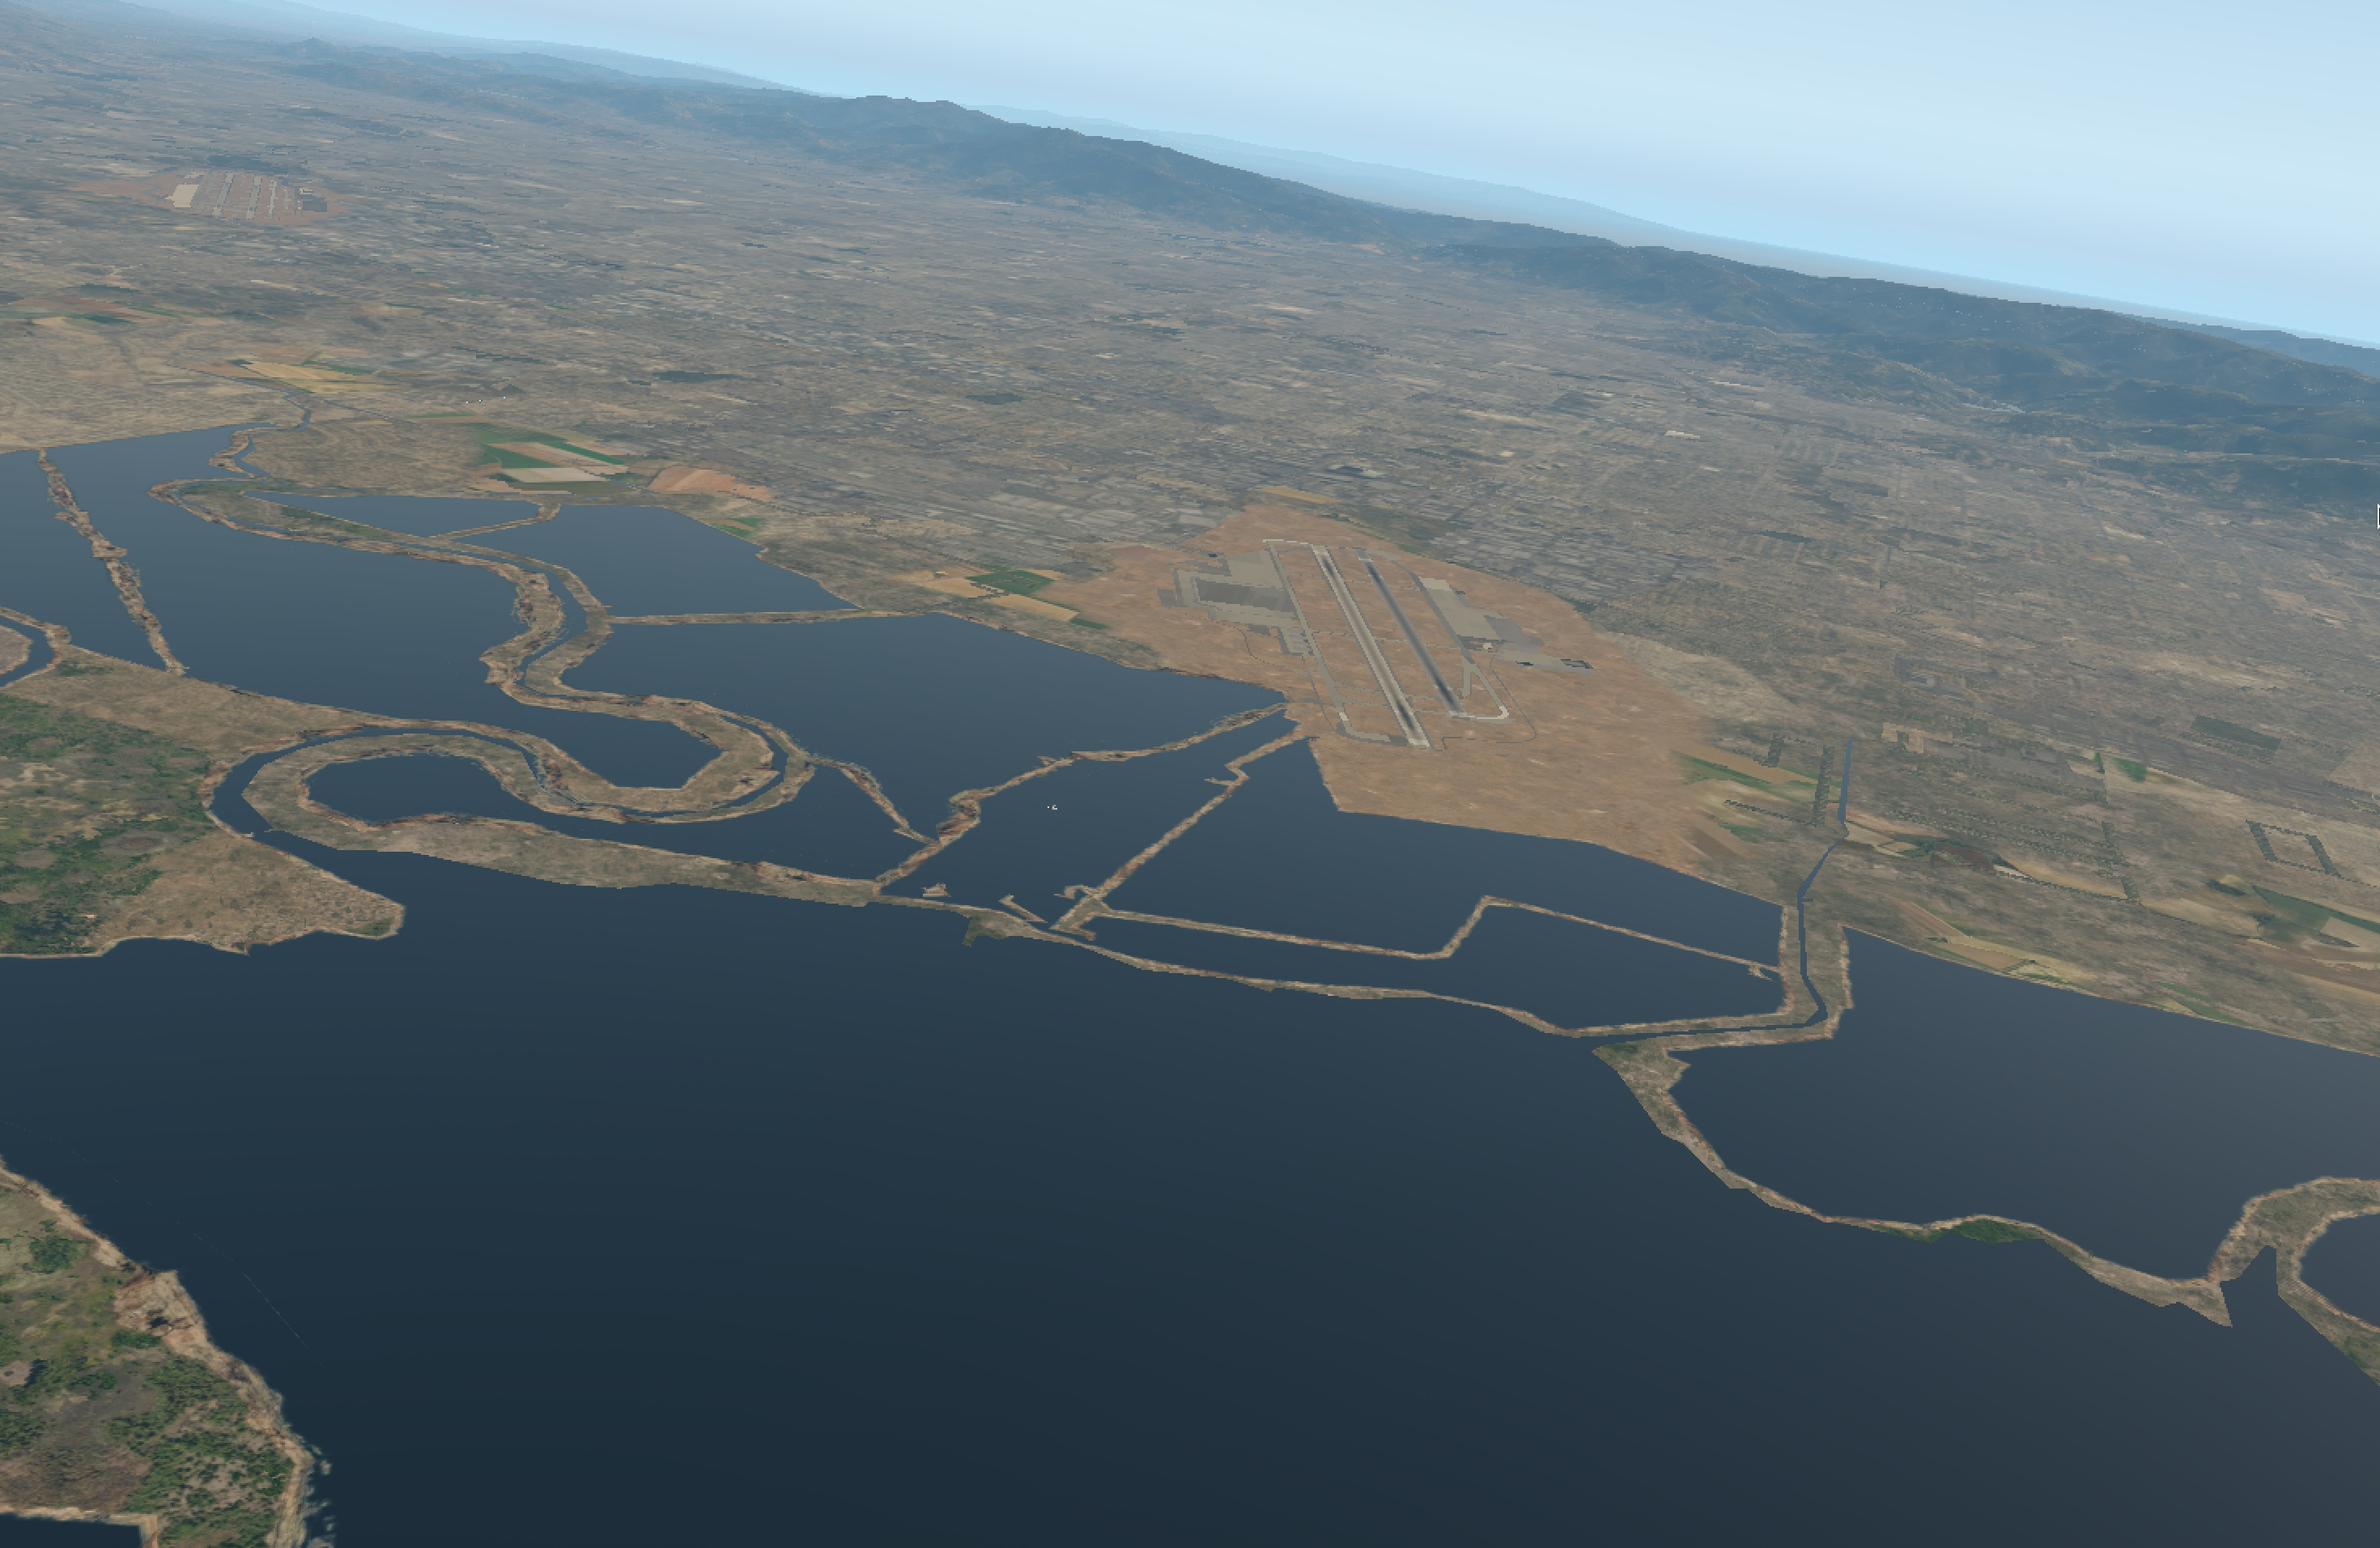aircraft: (1043, 805, 1063, 812)
